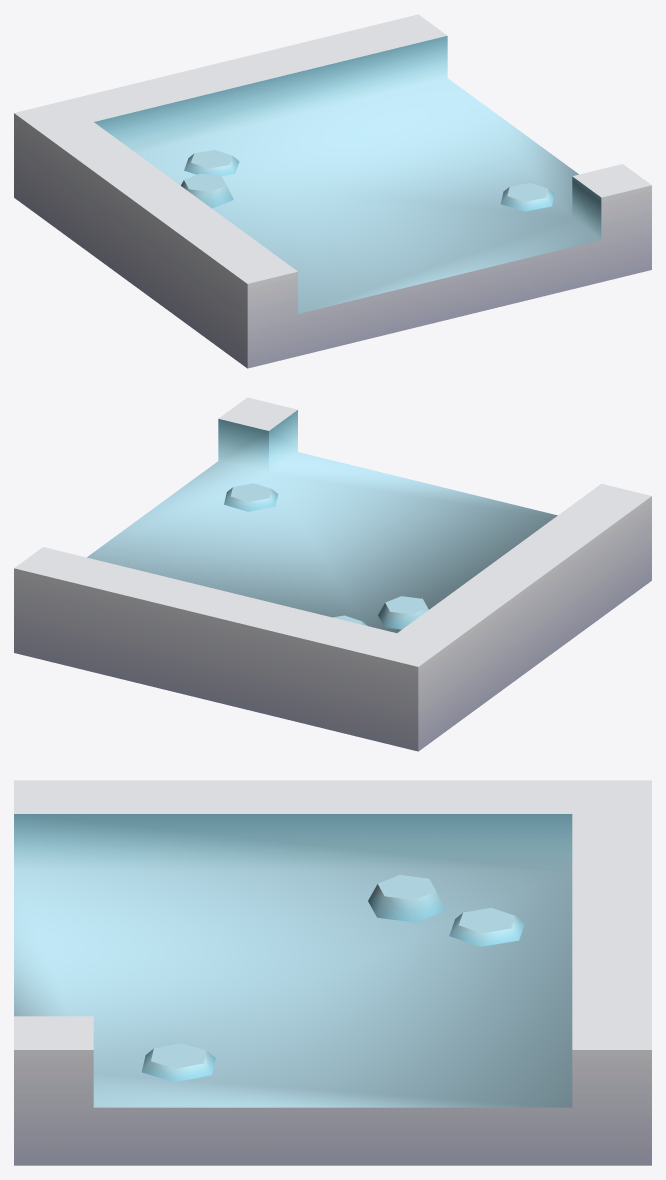
File: kenney-tower-defense-snow-tile-corner-square.glb
3 views of the same model, one above another, from view 1: azimuth 30°, elevation 25°; view 2: azimuth 150°, elevation 25°; view 3: azimuth 270°, elevation 25° (orthographic). The views are drawn at different scales.
Visible parts, largest first — view 1: snow-tile-corner-square; view 2: snow-tile-corner-square; view 3: snow-tile-corner-square.
Boxes of the visible parts, x1,y1,x2,y2 form: snow-tile-corner-square: (14,14,651,368); snow-tile-corner-square: (14,397,651,751); snow-tile-corner-square: (14,780,651,1165).
Size of the model in its own units: 1 by 0.2 by 1.
Materials: 1 (1 with a texture image).
